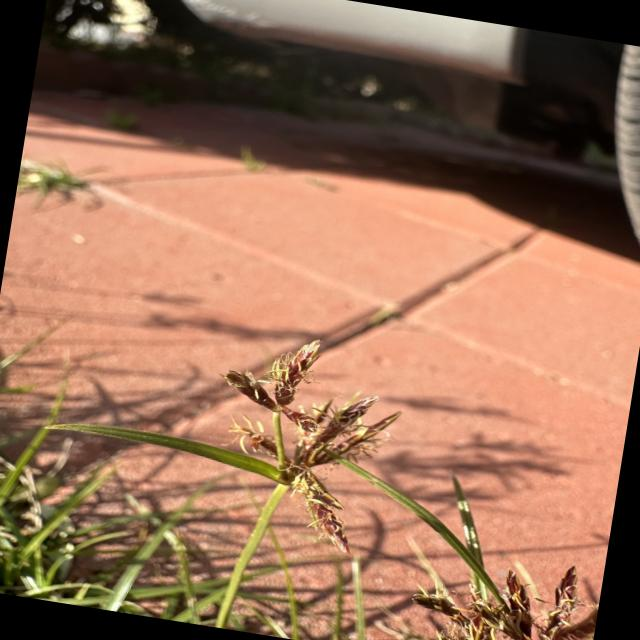cyperus: (200, 320, 400, 548), (398, 517, 608, 640)
